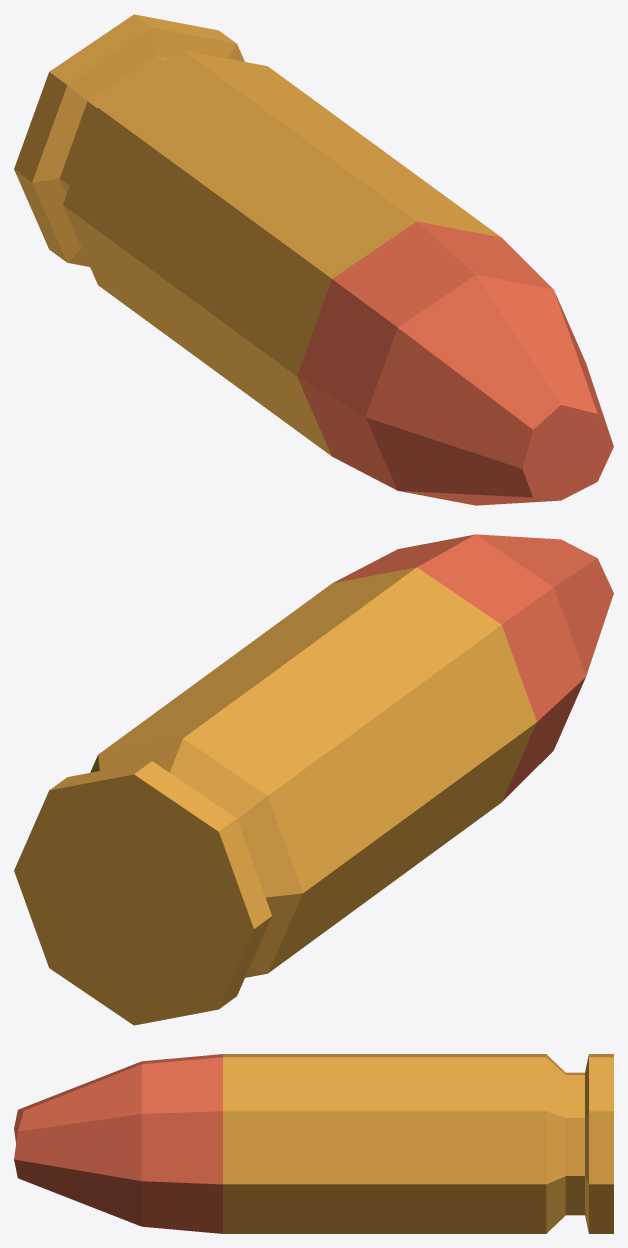
The model's file is Glock_Bullet.fbx.
3 views of the same model, one above another, from view 1: azimuth 30°, elevation 25°; view 2: azimuth 150°, elevation 25°; view 3: azimuth 270°, elevation 25° (orthographic). The views are drawn at different scales.
Parts seen in each view (by area): view 1: Glock_Bullet; view 2: Glock_Bullet; view 3: Glock_Bullet.
Part boxes in pixels (left/top/right/bottom): Glock_Bullet: left=14, top=14, right=613, bottom=505; Glock_Bullet: left=14, top=534, right=613, bottom=1025; Glock_Bullet: left=14, top=1054, right=613, bottom=1233.
Bounding box in the file's own units: 1.11 × 1.11 × 3.48.
